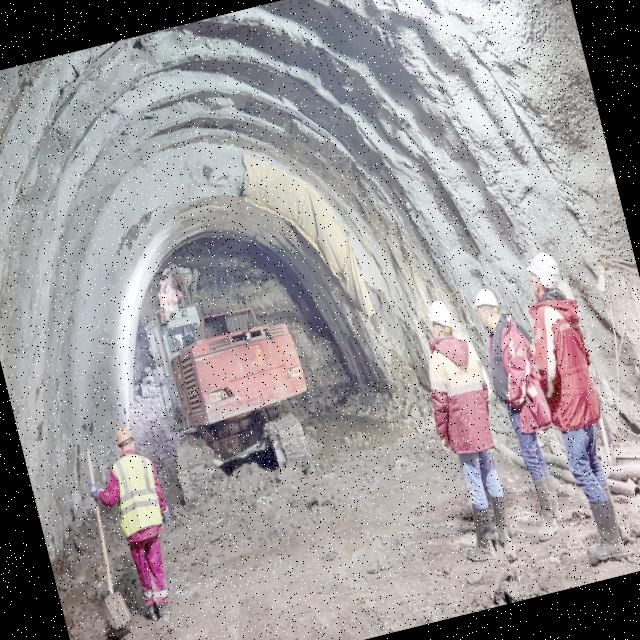Helmet: (525, 249, 566, 297), (422, 296, 458, 340), (471, 286, 503, 319), (114, 426, 138, 451)
Jacket: (427, 334, 501, 456), (110, 450, 168, 535)
NoJacket: (528, 292, 609, 433), (485, 311, 550, 443)
